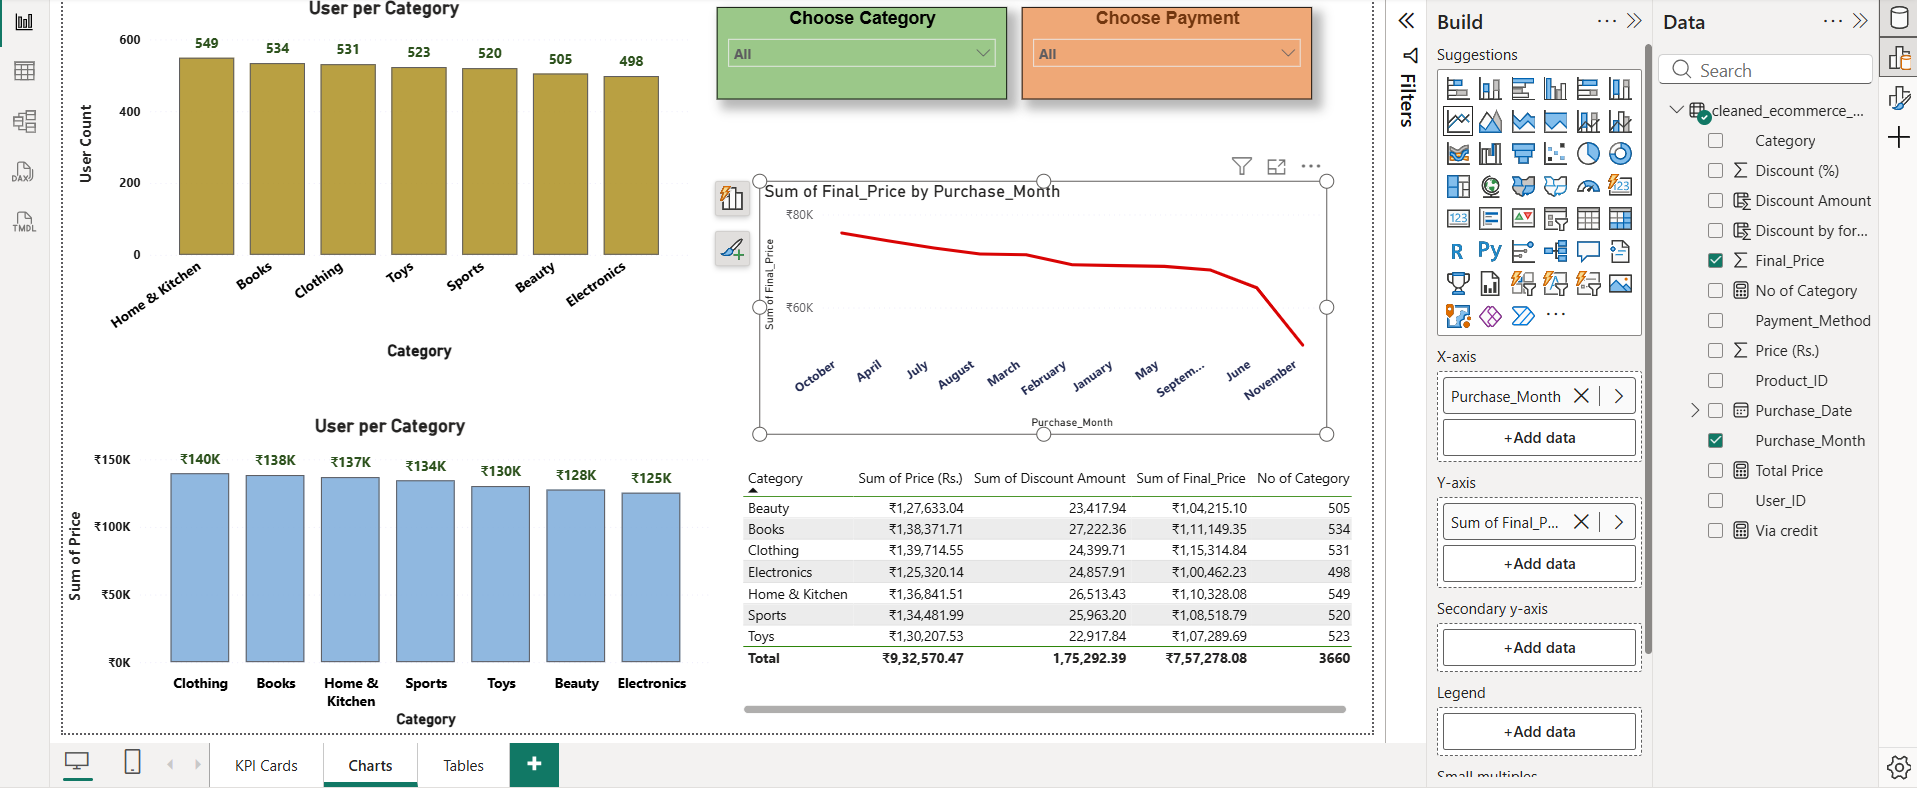

The dashboard page shown, as its layout file describes it:
{"tool":"powerbi","page":{"name":"Charts","canvas":[1280,720],"ordinal":1},"visuals":[{"type":"clusteredColumnChart","fields":{"Category":["cleaned_ecommerce_data.Category"],"Y":["CountNonNull(cleaned_ecommerce_data.User_ID)"]},"box":[10.7,0,651.4,441.4],"z":0},{"type":"clusteredColumnChart","fields":{"Category":["cleaned_ecommerce_data.Category"],"Y":["Sum(cleaned_ecommerce_data.Final_Price(Rs.))"]},"box":[10.7,441.4,651.4,279.4],"z":1000},{"type":"lineChart","fields":{"Category":["cleaned_ecommerce_data.Purchase_Month"],"Y":["Sum(cleaned_ecommerce_data.Final_Price(Rs.))"]},"box":[672,0,608,441],"z":2000}]}

Visuals, with their boxes on the page's 1280x720 design canvas (x1, y1, x2, y2). These are canvas units, not pixel positions in the 1917x788 screenshot, which may show the page scaled, cropped or inside an application window:
clusteredColumnChart - cleaned_ecommerce_data.Category x CountNonNull(cleaned_ecommerce_data.User_ID): pyautogui.locateOnScreen(11, 0, 662, 441)
clusteredColumnChart - cleaned_ecommerce_data.Category x Sum(cleaned_ecommerce_data.Final_Price(Rs.)): pyautogui.locateOnScreen(11, 441, 662, 721)
lineChart - cleaned_ecommerce_data.Purchase_Month x Sum(cleaned_ecommerce_data.Final_Price(Rs.)): pyautogui.locateOnScreen(672, 0, 1280, 441)
